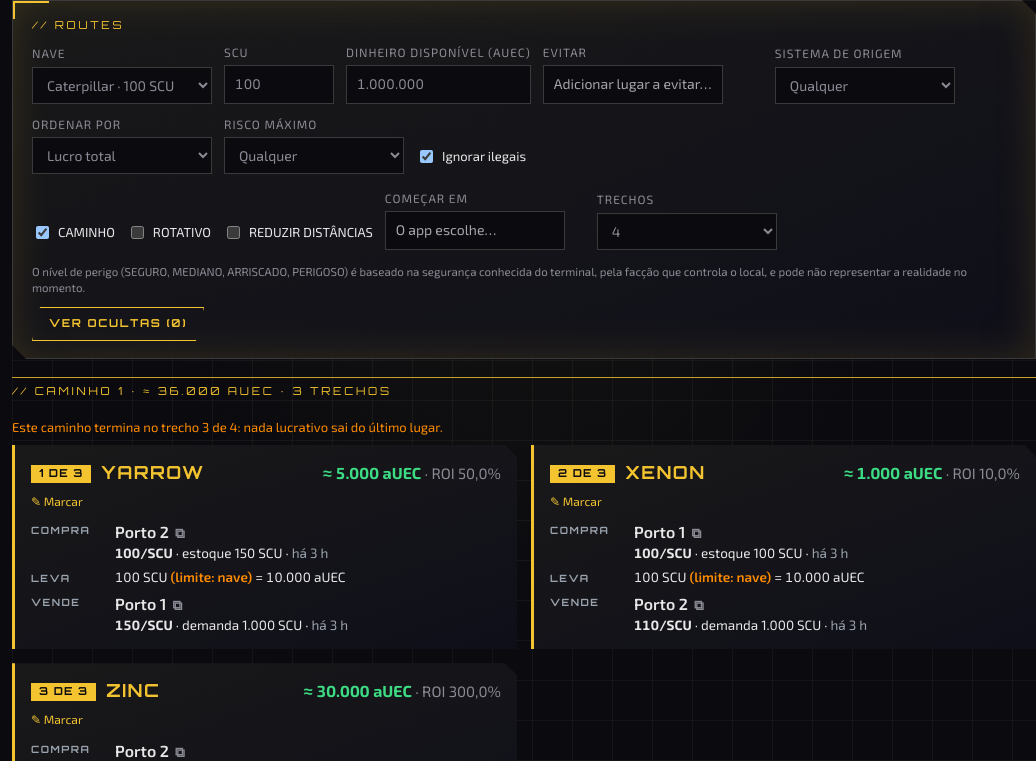
Scenario: CAMINHO, ROTATIVO e REDUZIR DISTÂNCIAS › ROTATIVO desmarca CAMINHO e mostra ida e volta entre dois terminais
Click the checkbox labelled "ROTATIVO" at (137, 232), box 131,226 -> 144,239
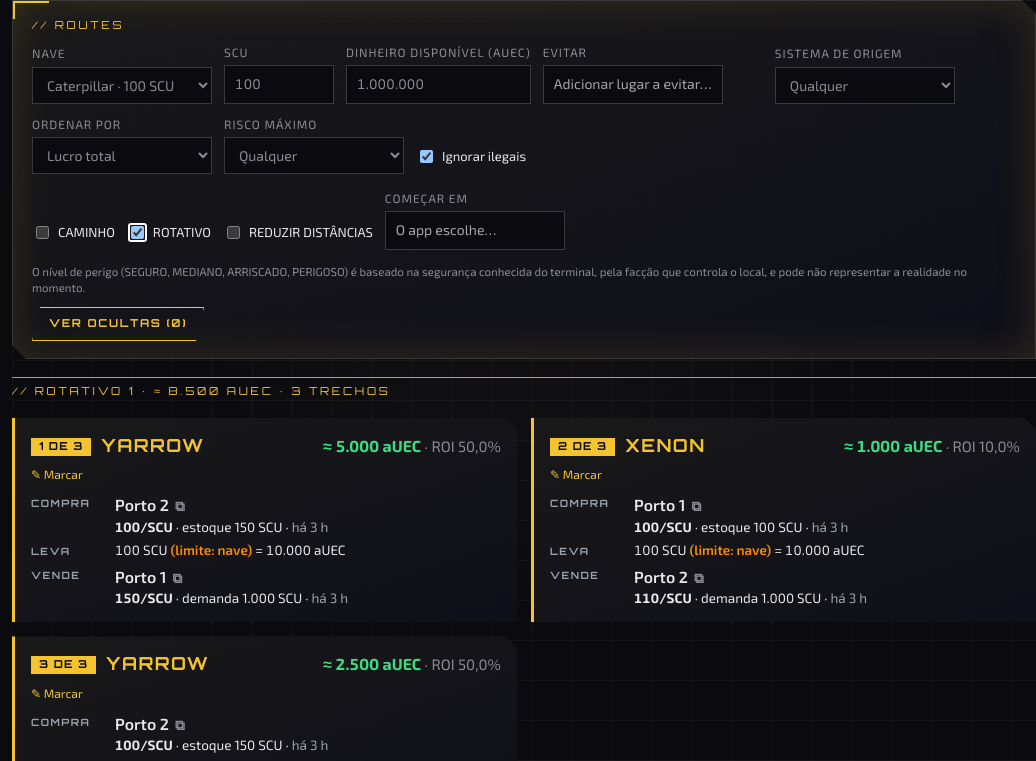
Expected: the checkbox labelled "CAMINHO" is not checked, 36,226 -> 49,239
